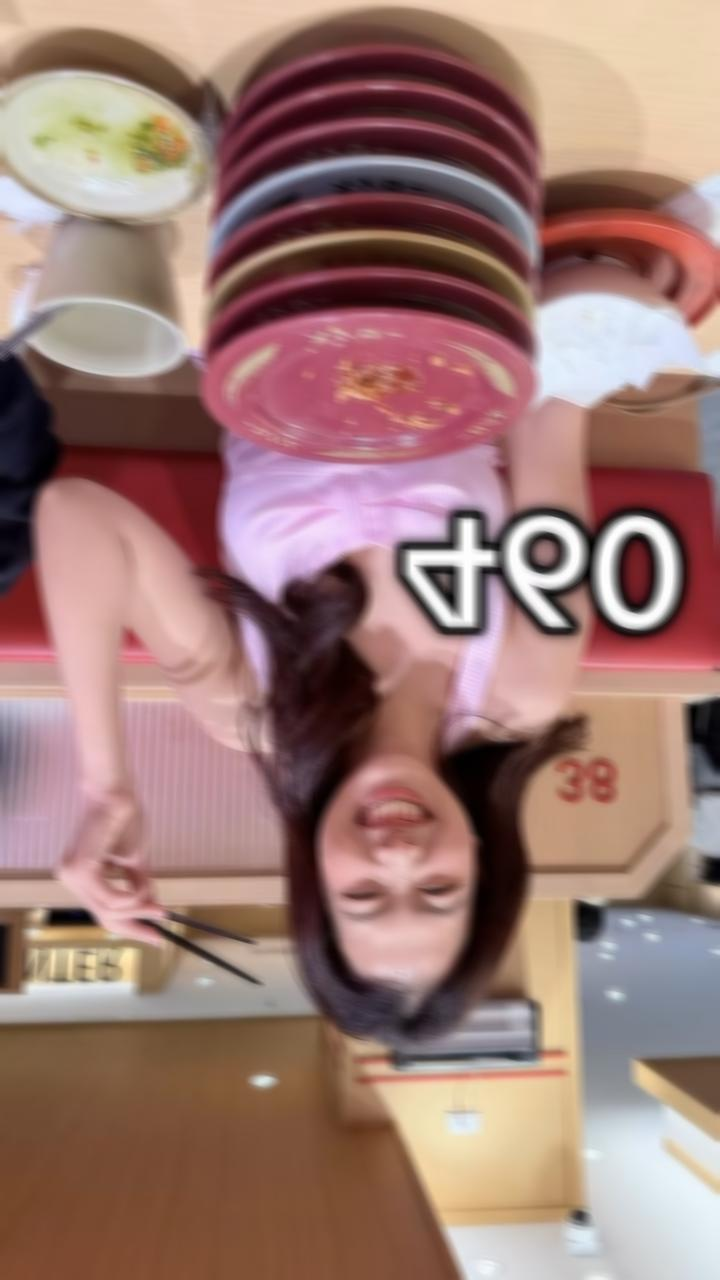Jangold: (271, 241, 500, 269)
Janred: (183, 320, 538, 448), (208, 277, 498, 315), (291, 42, 482, 77), (246, 201, 493, 228), (273, 80, 481, 112), (262, 126, 491, 149)
Janwhite: (248, 158, 508, 200)
